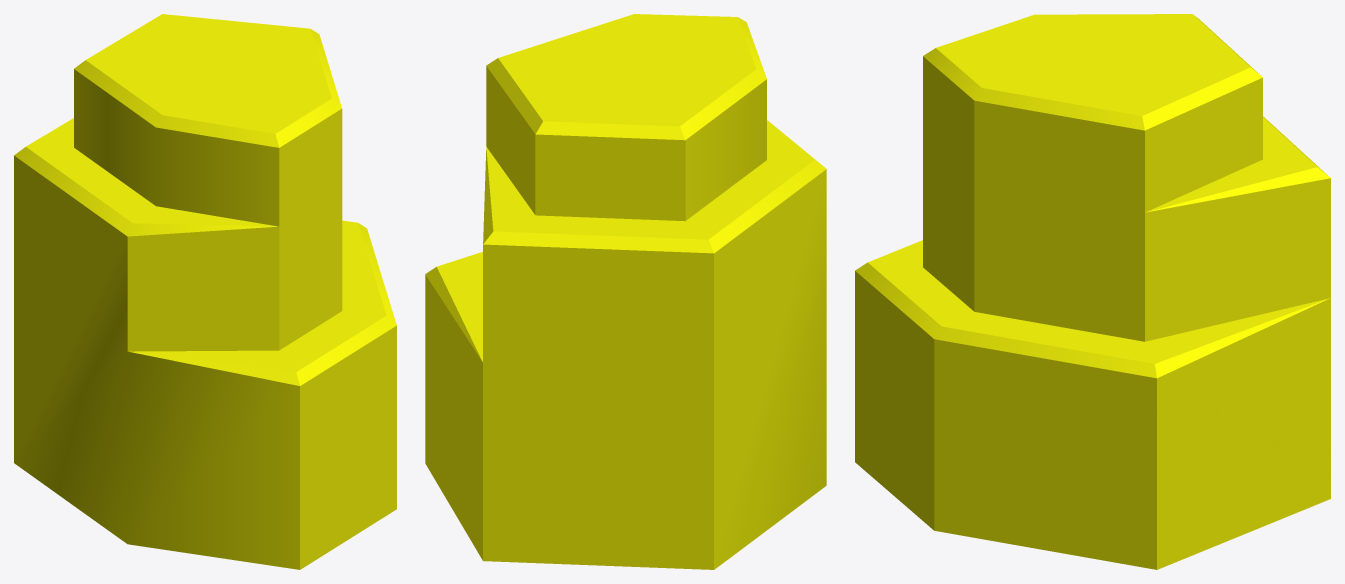
The model's file is kaykit-rock-1-d-color-1.glb.
3 renders of one model, left to right at view 1: azimuth 30°, elevation 25°; view 2: azimuth 150°, elevation 25°; view 3: azimuth 270°, elevation 25°, orthographic. The views are drawn at different scales.
Parts seen in each view (by area): view 1: Rock_1_D_Color1; view 2: Rock_1_D_Color1; view 3: Rock_1_D_Color1.
Boxes of the visible parts, box(x1,y1,x2,y2) form: Rock_1_D_Color1: box(14, 14, 396, 569); Rock_1_D_Color1: box(425, 14, 826, 569); Rock_1_D_Color1: box(855, 14, 1330, 569).
Size of the model in its own units: 0.927 by 1.13 by 1.16.
